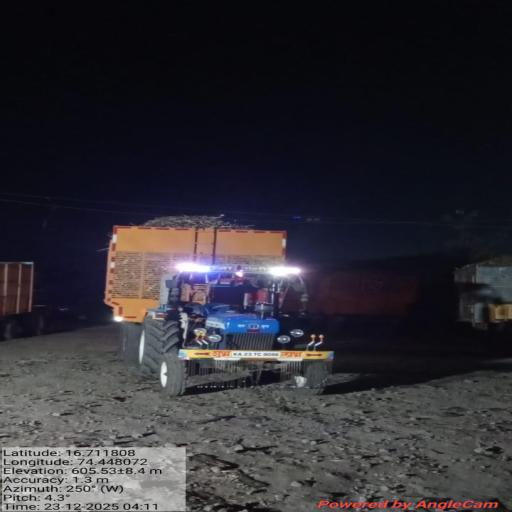number_plate: (218, 345, 290, 368)
